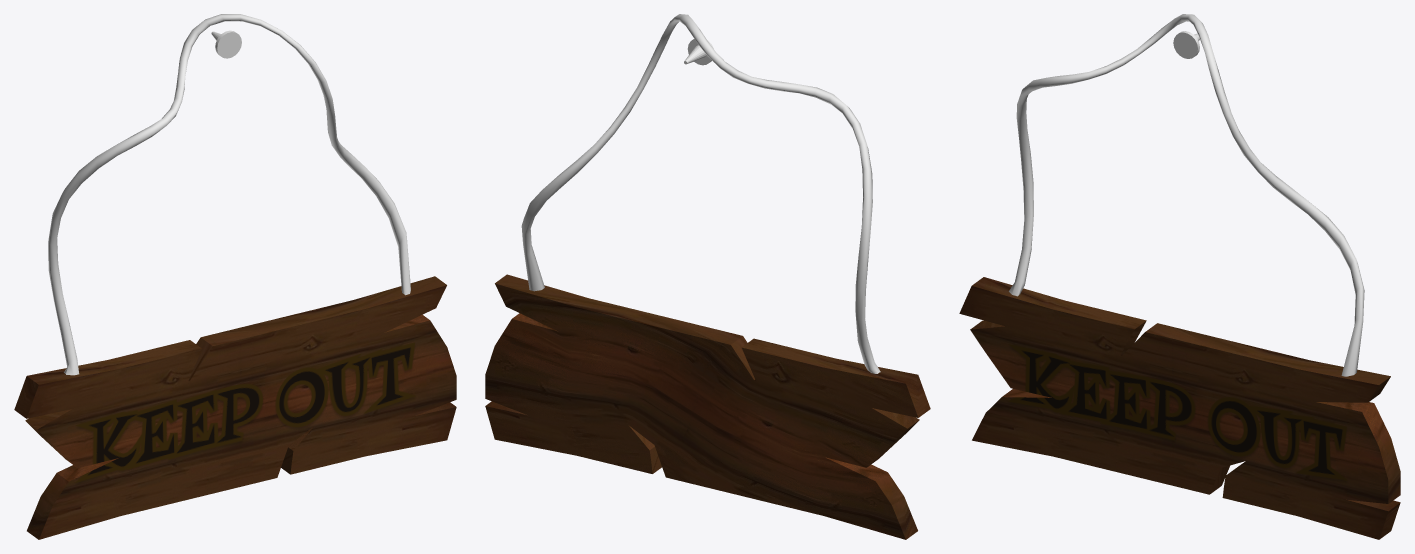
Rendered from DoorSign.fbx.
3 views of the same model, side by side, from view 1: azimuth 30°, elevation 25°; view 2: azimuth 150°, elevation 25°; view 3: azimuth 330°, elevation 25° (orthographic).
Visible parts, largest first — view 1: Box062, Spring001, Cylinder071; view 2: Box062, Spring001; view 3: Box062, Spring001, Cylinder071.
Boxes of the visible parts, left/top/right/bottom form: Box062: left=14, top=276, right=456, bottom=539; Spring001: left=48, top=14, right=410, bottom=375; Cylinder071: left=211, top=30, right=241, bottom=58; Box062: left=485, top=274, right=930, bottom=539; Spring001: left=521, top=14, right=880, bottom=373; Box062: left=959, top=277, right=1400, bottom=539; Spring001: left=1009, top=14, right=1364, bottom=376; Cylinder071: left=1173, top=31, right=1199, bottom=58.
Bounding box in the file's own units: 2.31 × 0.4174 × 2.38.
Materials: 1 (1 with a texture image).
